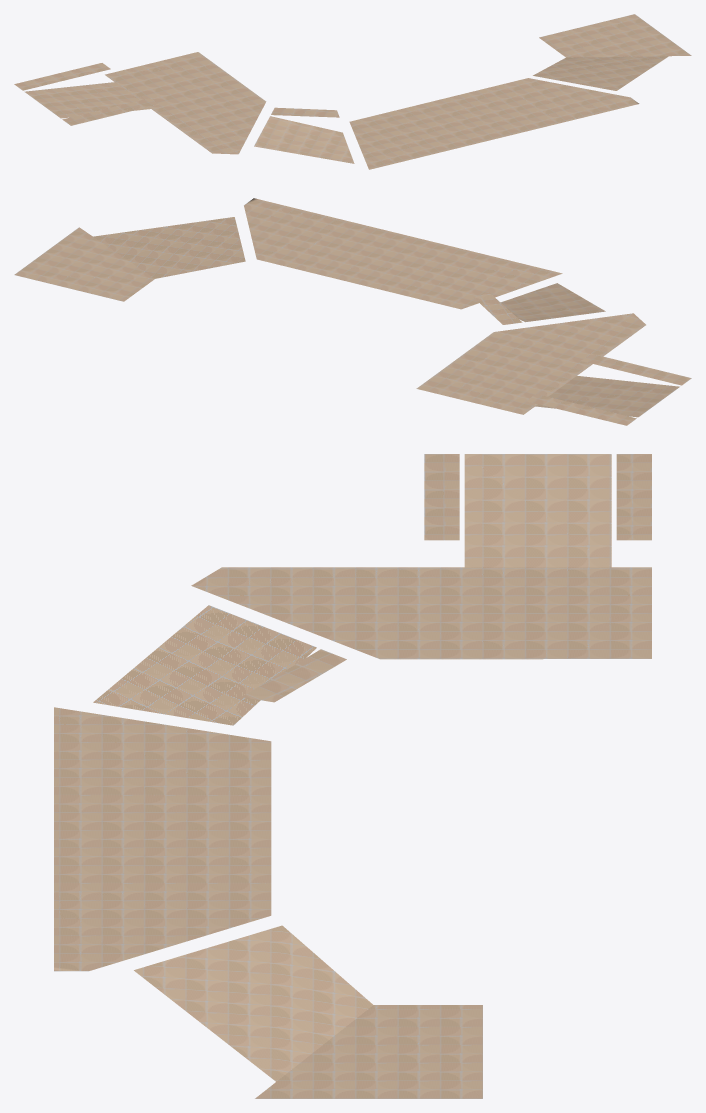
File: kd_connection_town-ground_surface_1_19.glb
3 renders of one model, top to bottom at view 1: azimuth 30°, elevation 25°; view 2: azimuth 150°, elevation 25°; view 3: azimuth 270°, elevation 25°, orthographic. The views are drawn at different scales.
Parts seen in each view (by area): view 1: kd_connection_town-ground_surface_1_19; view 2: kd_connection_town-ground_surface_1_19; view 3: kd_connection_town-ground_surface_1_19.
Part boxes in pixels (x1=…): kd_connection_town-ground_surface_1_19: x1=14, y1=14, x2=691, y2=169; kd_connection_town-ground_surface_1_19: x1=14, y1=198, x2=691, y2=425; kd_connection_town-ground_surface_1_19: x1=54, y1=454, x2=651, y2=1098.
Bounding box in the file's own units: 26.38 × 1.75 × 11.81.
1 material, 1 textured.
